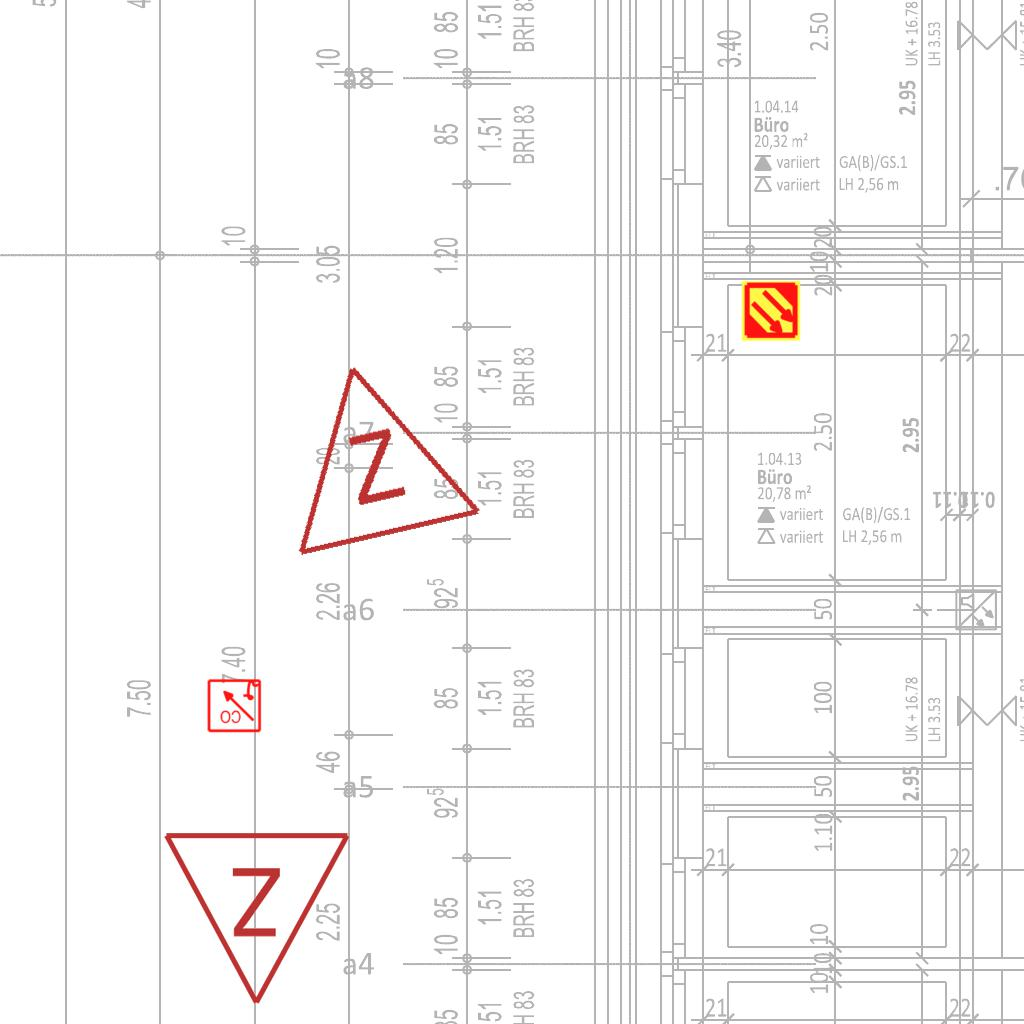ASR_Ansaugrauchmelder: (740, 280, 802, 342)
ROA_Rauchmelder_optisch_mit_Signalgeber_(Sockelsirene): (206, 677, 262, 733)
Zimmersignalleuchte: (251, 332, 487, 572), (161, 818, 357, 1018)
